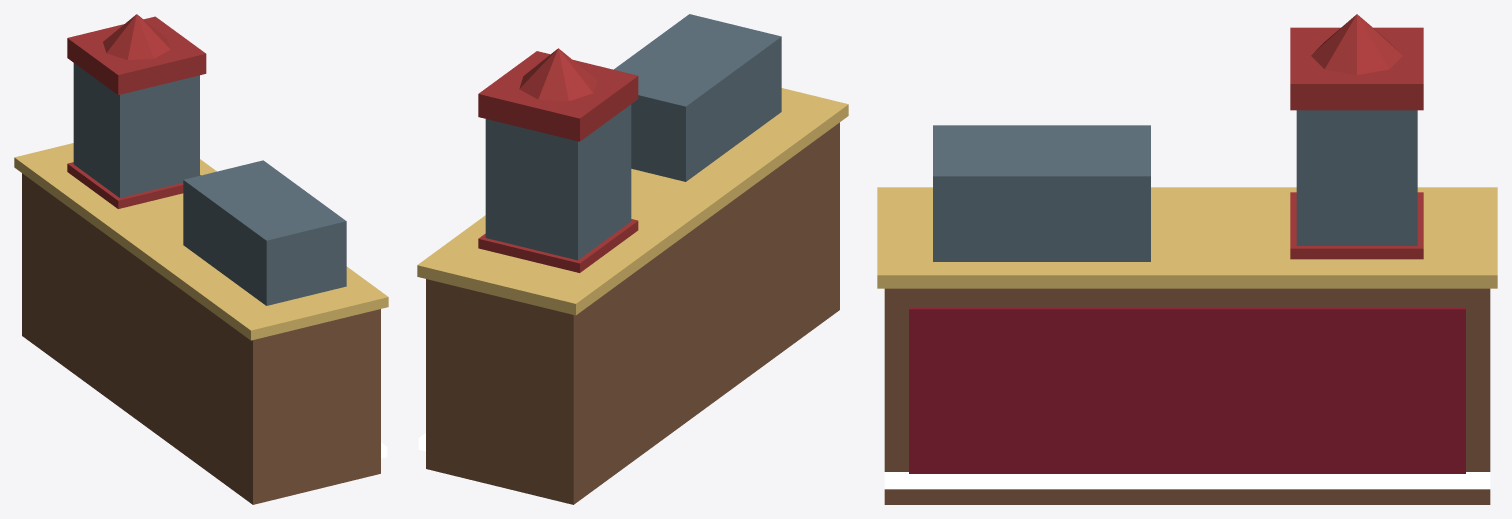
File: SM_ConcessionCounter.fbx
The picture shows the model from 3 angles, left to right: view 1: azimuth 30°, elevation 25°; view 2: azimuth 150°, elevation 25°; view 3: azimuth 270°, elevation 25°; orthographic projection. The views are drawn at different scales.
Parts seen in each view (by area): view 1: SM_ConcessionCounter; view 2: SM_ConcessionCounter; view 3: SM_ConcessionCounter.
Boxes of the visible parts, x1=… form: SM_ConcessionCounter: x1=14, y1=14, x2=388, y2=504; SM_ConcessionCounter: x1=417, y1=14, x2=848, y2=504; SM_ConcessionCounter: x1=877, y1=14, x2=1497, y2=504.
Size of the model in its own units: 87 by 205 by 256.
